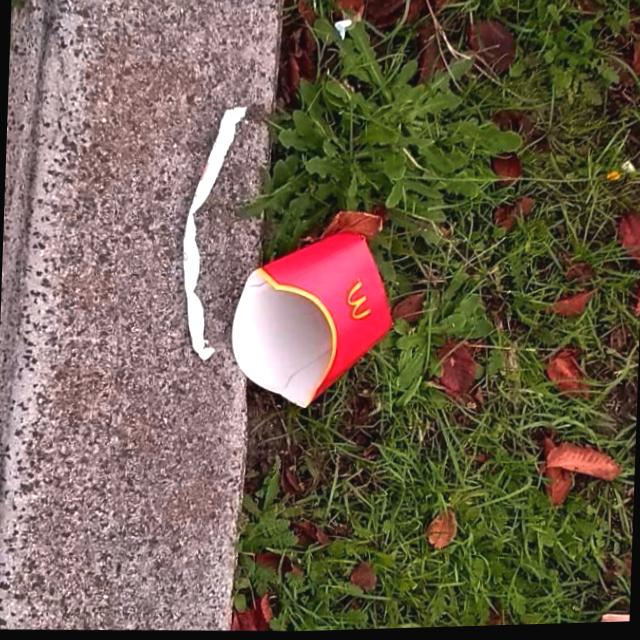Cup: (596, 615, 629, 626)
Paper: (227, 224, 399, 416)
